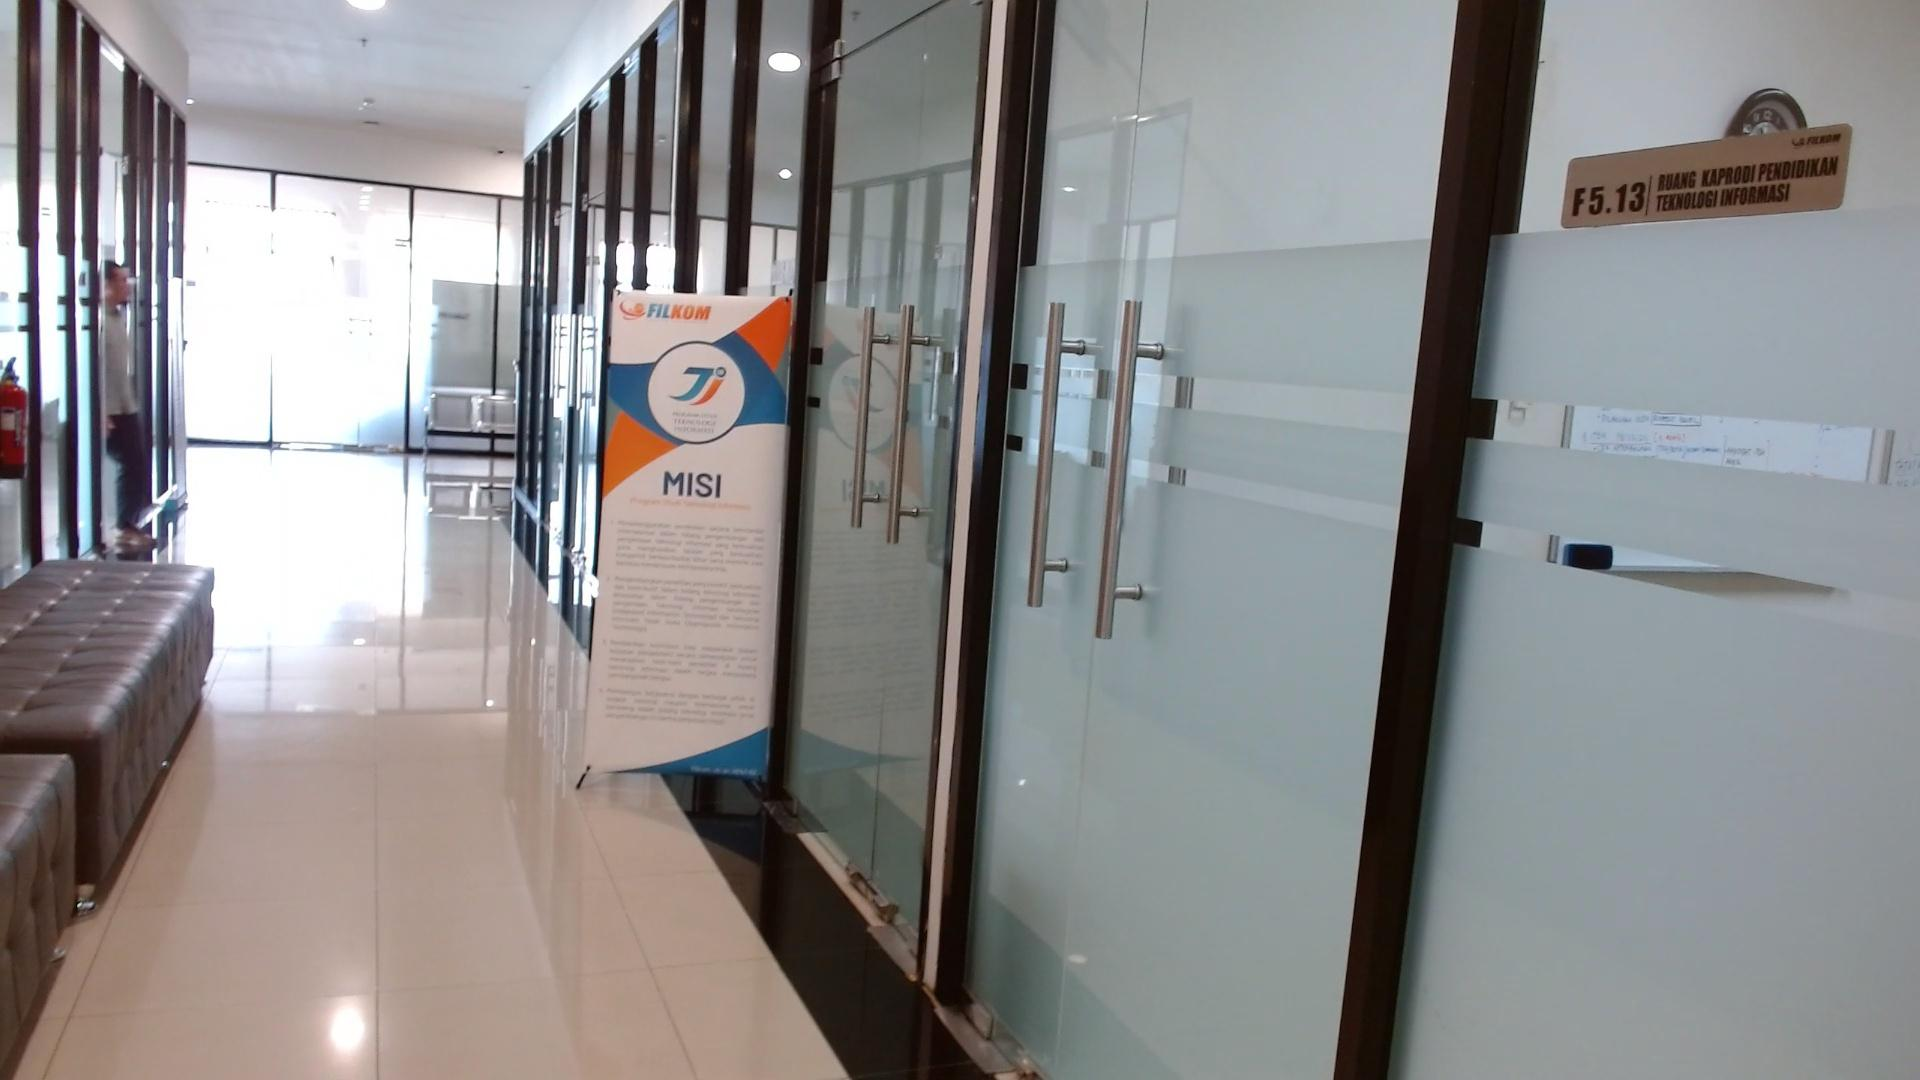plate: (1561, 123, 1853, 229)
